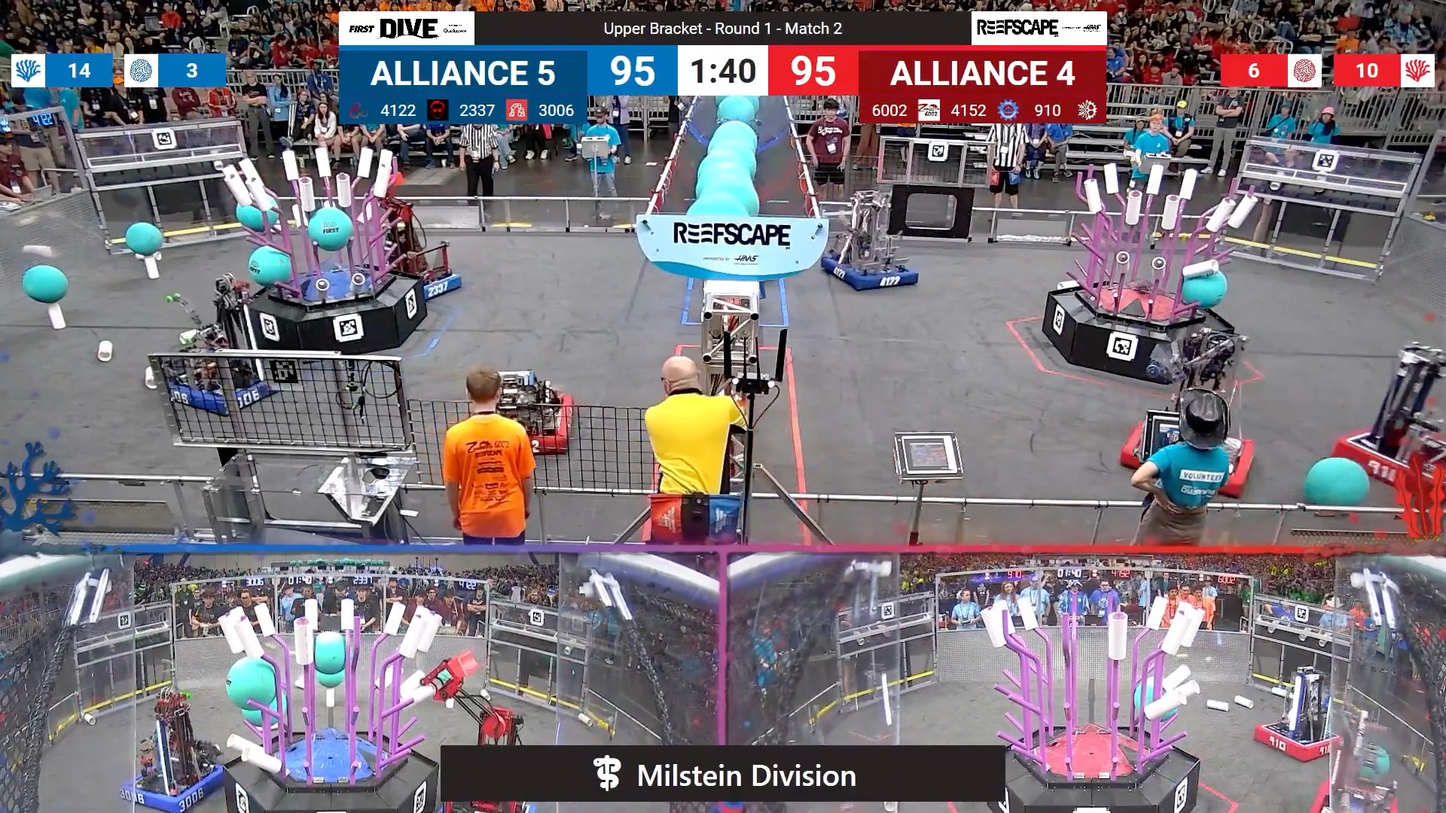bumpers: (1118, 414, 1261, 495), (1332, 419, 1445, 495), (117, 758, 233, 811), (808, 251, 925, 295), (162, 376, 281, 419), (1248, 717, 1350, 763), (1305, 777, 1405, 812), (396, 265, 470, 300)
